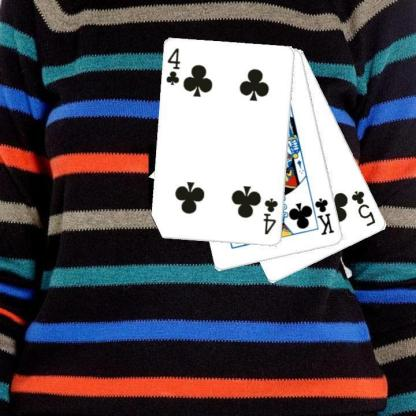4C: (164, 46, 182, 87), (261, 196, 279, 236)
5C: (349, 188, 377, 228)
KC: (307, 194, 336, 236)
